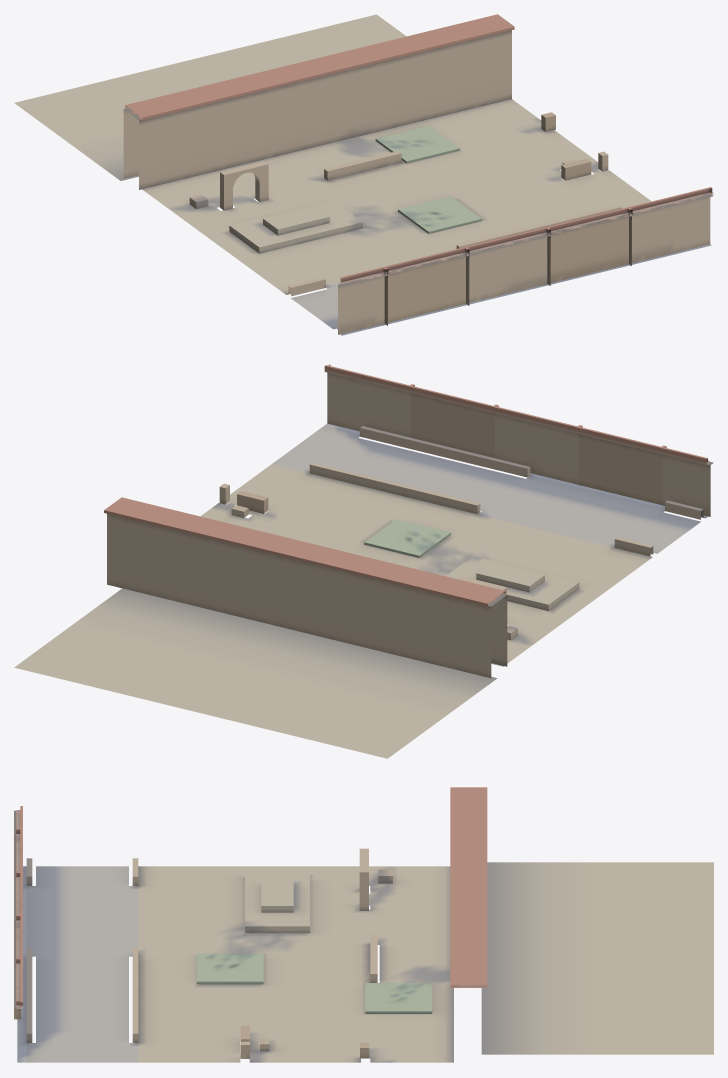
The picture shows the model from 3 angles, top to bottom: view 1: azimuth 30°, elevation 25°; view 2: azimuth 150°, elevation 25°; view 3: azimuth 270°, elevation 25°; orthographic projection. The views are drawn at different scales.
Visible parts, largest first — view 1: t; view 2: t; view 3: t.
Part boxes in pixels (<box>): t: <box>14,14,713,335</box>; t: <box>14,364,713,758</box>; t: <box>14,787,713,1062</box>.
Bounding box in the file's own units: 51.27 × 9.35 × 75.37.
